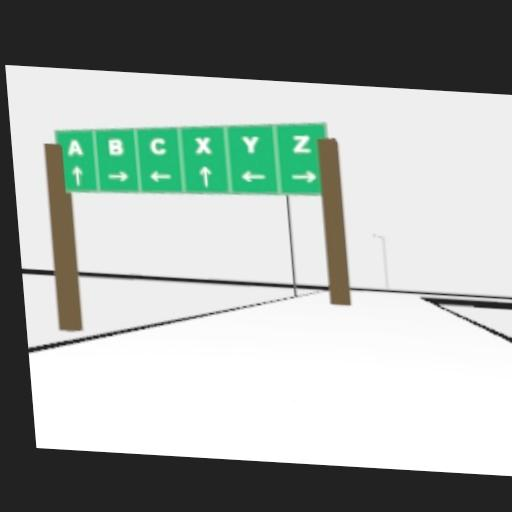A: (66, 137, 83, 155)
B: (107, 136, 124, 154)
C: (147, 135, 165, 153)
Left: (239, 168, 266, 182), (149, 170, 171, 181)
Right: (289, 167, 319, 185), (106, 168, 130, 180)
Straight: (197, 163, 214, 185), (71, 163, 83, 183)
X: (194, 134, 212, 152)
Y: (240, 133, 259, 151)
Z: (292, 133, 310, 151)
